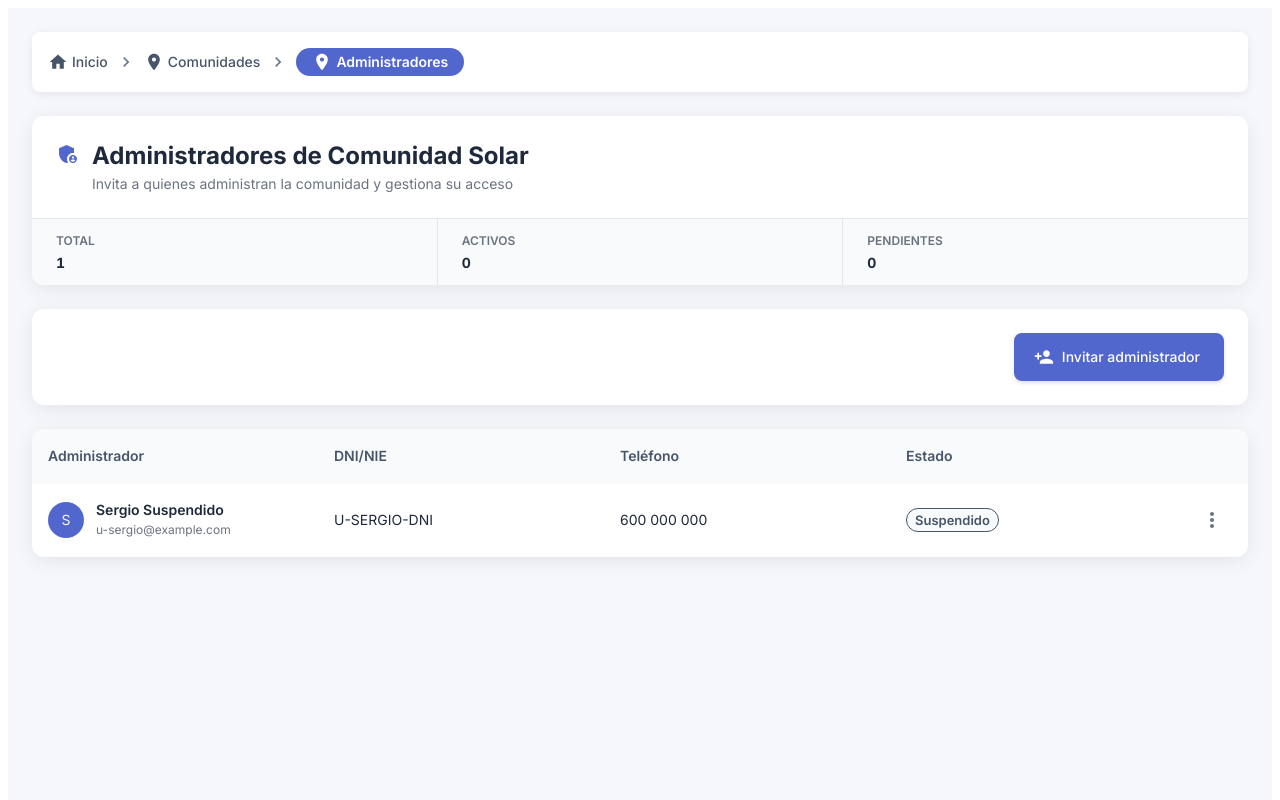
Test: the row actions › UI-ADM-005 reactivates an admin, and the row shows Activo
Expected: the text "Sergio Suspendido" is shown, [96,501,224,518]
Step 1. Click the button named "Más acciones para Sergio Suspendido" → (1212, 520), box [1195,503,1229,537]
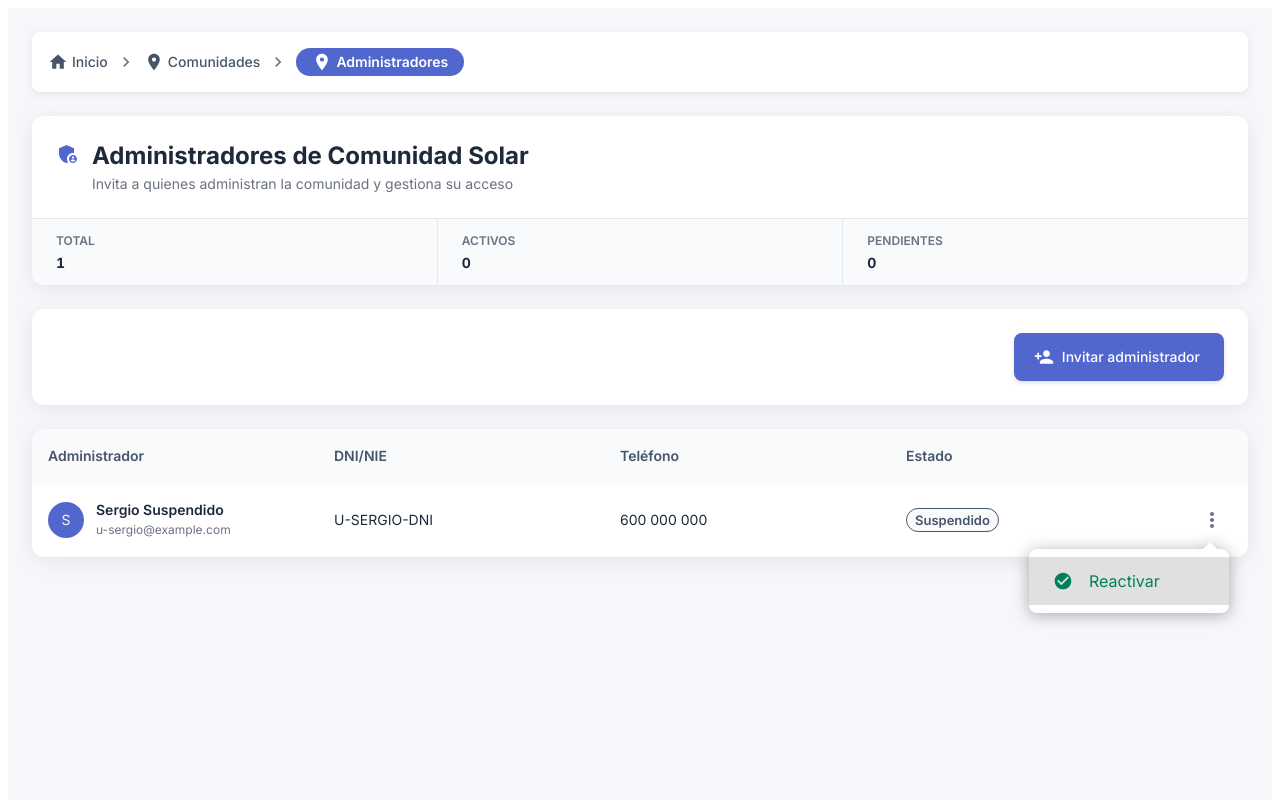
Step 2. Click the menu item "Reactivar" → (1129, 581), box [1029,557,1229,605]
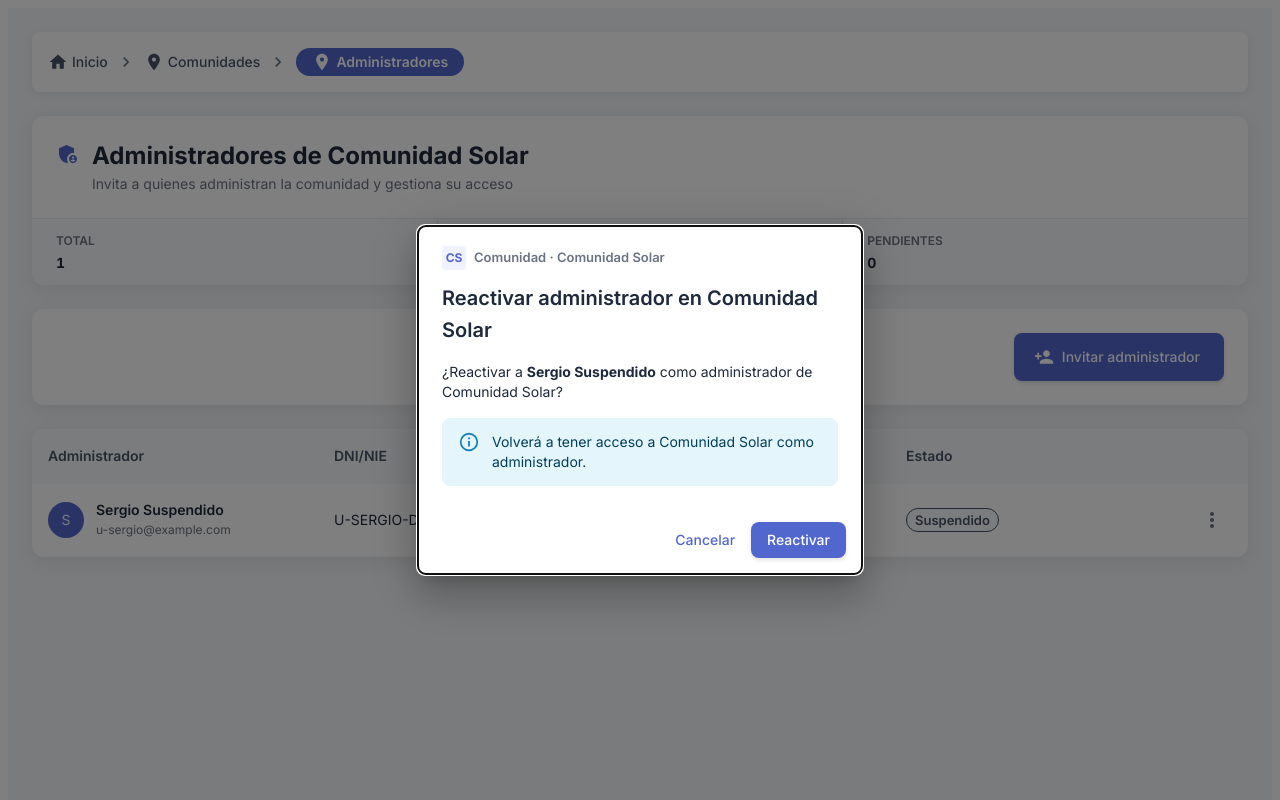
Step 3. Click the button "Reactivar" → (799, 540), box [751,522,846,558]
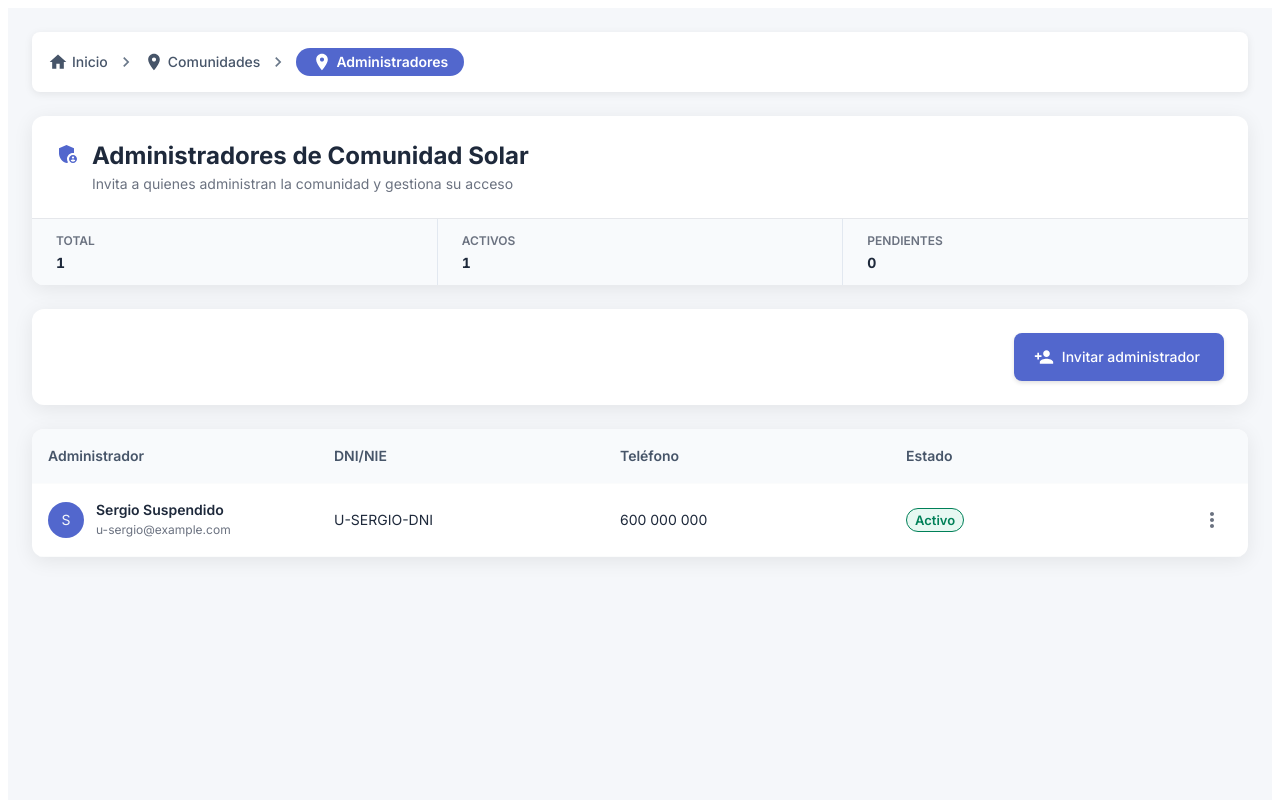
Now the dialog is gone
Now the text "Activo" is shown, box [915,512,955,528]
